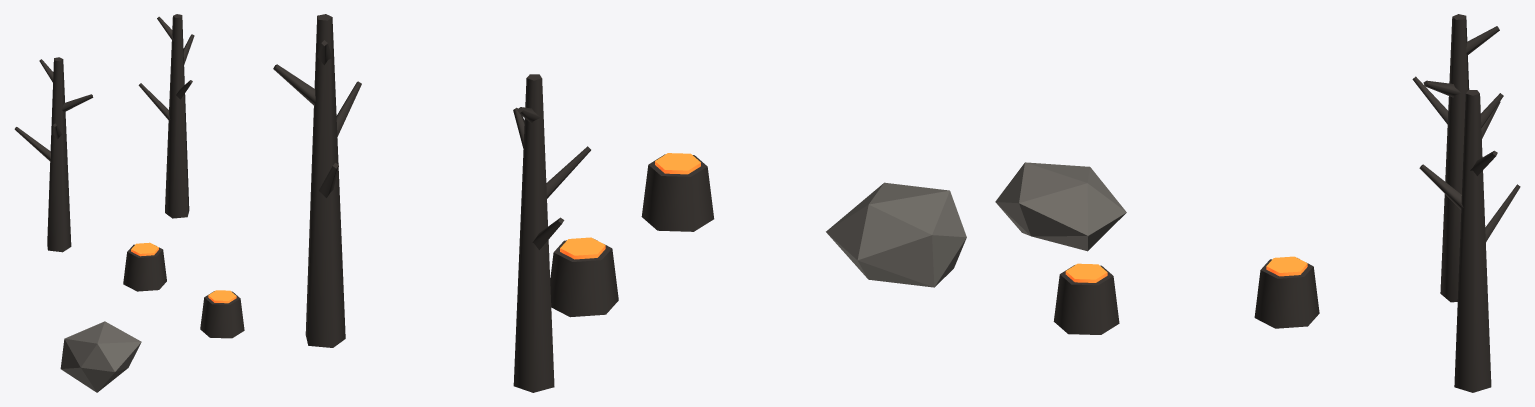
The model's file is sawyer_dead_snags_c.glb.
3 renders of one model, left to right at view 1: azimuth 30°, elevation 25°; view 2: azimuth 150°, elevation 25°; view 3: azimuth 270°, elevation 25°, orthographic. The views are drawn at different scales.
Visible parts, largest first — view 1: rock_4_rock, dead_0_trunk, dead_1_trunk, stump_2_stump, stump_3_stump, stump_2_ember, stump_3_ember, dead_1_branch0, dead_0_branch0, dead_1_branch2; view 2: rock_4_rock, dead_0_trunk, dead_1_trunk, stump_2_stump, stump_3_stump, stump_3_ember, stump_2_ember; view 3: rock_4_rock, dead_0_trunk, dead_1_trunk, stump_2_stump, stump_3_stump, stump_3_ember, stump_2_ember, dead_0_branch1.
Part boxes in pixels (<box>): rock_4_rock: <box>60,321,141,392</box>; dead_0_trunk: <box>165,14,189,218</box>; dead_1_trunk: <box>47,57,71,252</box>; stump_2_stump: <box>200,291,244,338</box>; stump_3_stump: <box>123,244,166,291</box>; stump_2_ember: <box>208,290,236,303</box>; stump_3_ember: <box>131,242,158,256</box>; dead_1_branch0: <box>14,127,50,161</box>; dead_0_branch0: <box>138,83,170,119</box>; dead_1_branch2: <box>61,94,93,111</box>; rock_4_rock: <box>826,182,966,287</box>; dead_0_trunk: <box>305,14,345,347</box>; dead_1_trunk: <box>513,74,554,392</box>; stump_2_stump: <box>641,154,714,231</box>; stump_3_stump: <box>550,239,618,317</box>; stump_3_ember: <box>560,237,605,259</box>; stump_2_ember: <box>655,153,700,174</box>; rock_4_rock: <box>995,162,1126,251</box>; dead_0_trunk: <box>1454,90,1491,392</box>; dead_1_trunk: <box>1440,14,1469,302</box>; stump_2_stump: <box>1053,265,1119,334</box>; stump_3_stump: <box>1254,259,1319,328</box>; stump_3_ember: <box>1266,256,1307,276</box>; stump_2_ember: <box>1065,263,1107,282</box>; dead_0_branch1: <box>1419,164,1463,209</box>.
Bounding box in the file's own units: 3.07 × 2.27 × 3.51.
